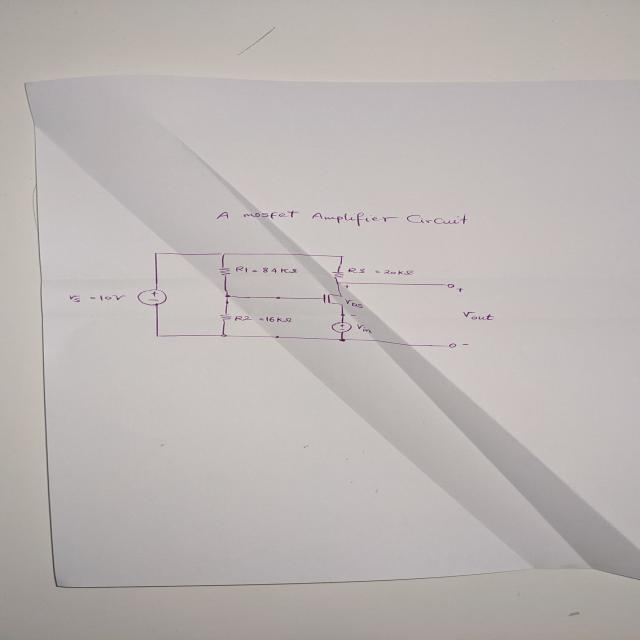junction: (337, 337, 346, 342), (219, 333, 227, 337), (224, 294, 232, 298), (154, 334, 161, 338), (219, 252, 226, 255), (338, 255, 344, 258), (153, 252, 159, 254), (334, 281, 339, 283)
resistor: (217, 267, 231, 276), (218, 313, 232, 321), (330, 271, 344, 278)
source: (136, 288, 168, 306), (330, 321, 352, 333)
terminal: (446, 342, 458, 348), (443, 283, 455, 288)
text: (214, 209, 469, 227), (346, 266, 416, 276), (67, 293, 128, 303), (234, 265, 299, 274), (233, 315, 293, 323), (459, 310, 494, 320), (343, 298, 364, 308), (355, 323, 373, 334), (455, 287, 464, 292), (460, 342, 471, 346), (342, 284, 350, 288), (349, 314, 356, 316)
transistor: (321, 293, 344, 305)
